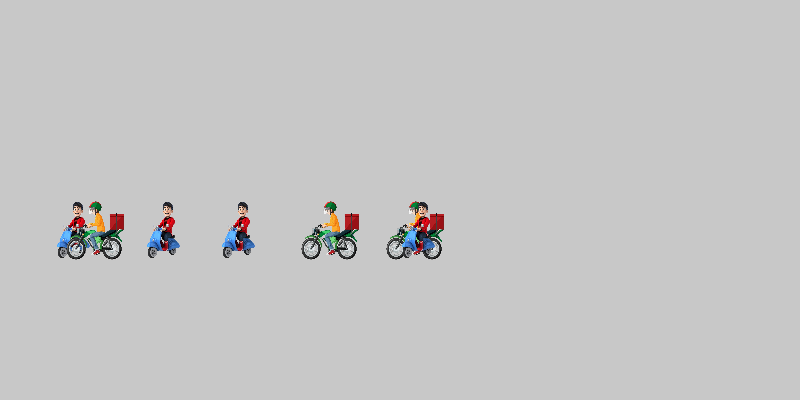helmet: (65, 200, 125, 260), (300, 200, 360, 260), (385, 200, 445, 260)
no_helmet: (45, 200, 105, 260), (135, 200, 195, 260), (210, 200, 270, 260), (390, 200, 450, 260)
